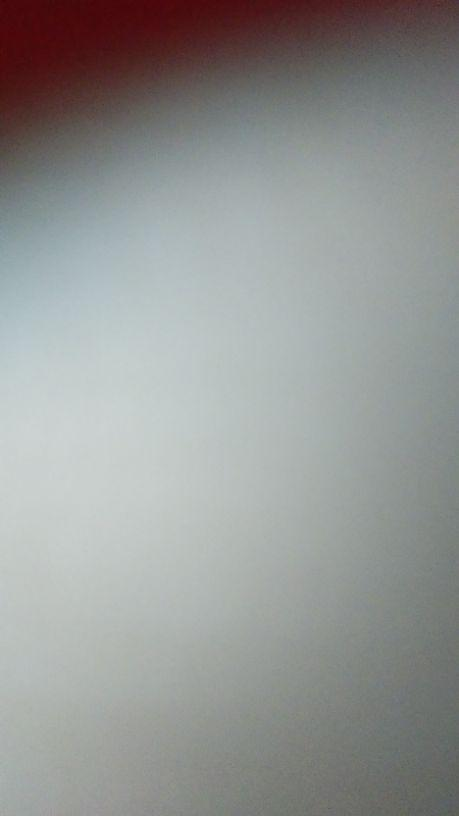license_plate: (2, 0, 457, 813)
